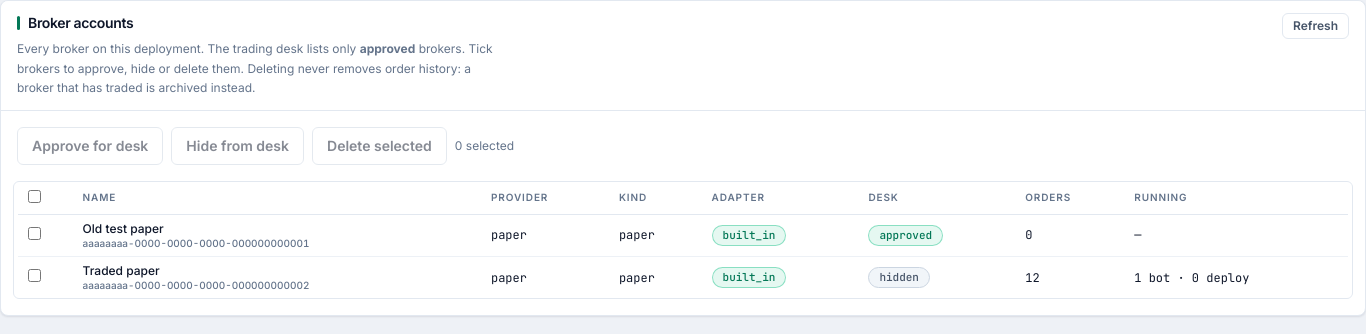
BrokerAccountsAdmin › actions stay disabled until a broker is ticked
expect the text "Old test paper" is shown: met, box [83,221,164,236]
expect the button "Delete selected" is disabled: met, box [312,126,447,164]
Click the checkbox named "Select Old test paper" at x=34, y=234, box [28,227,41,240]
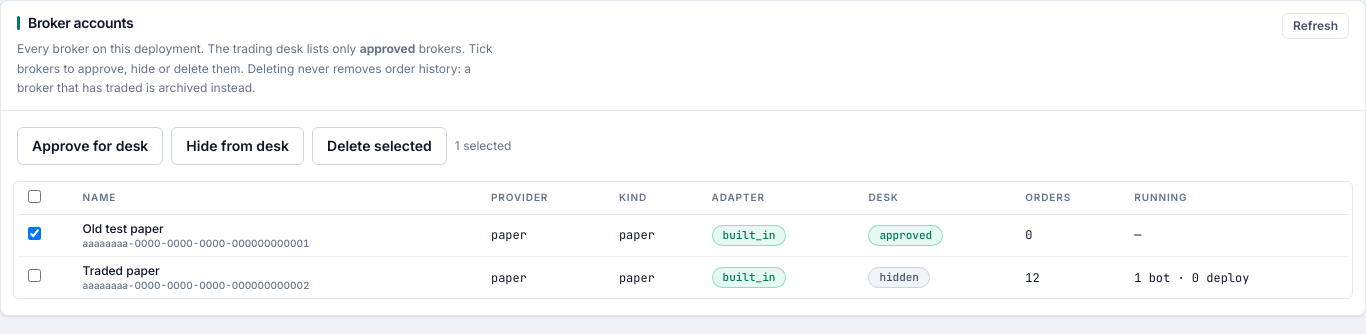
expect the button "Delete selected" is enabled: met, box [312,126,447,164]
expect the text "1 selected" is shown: met, box [455,138,511,154]
